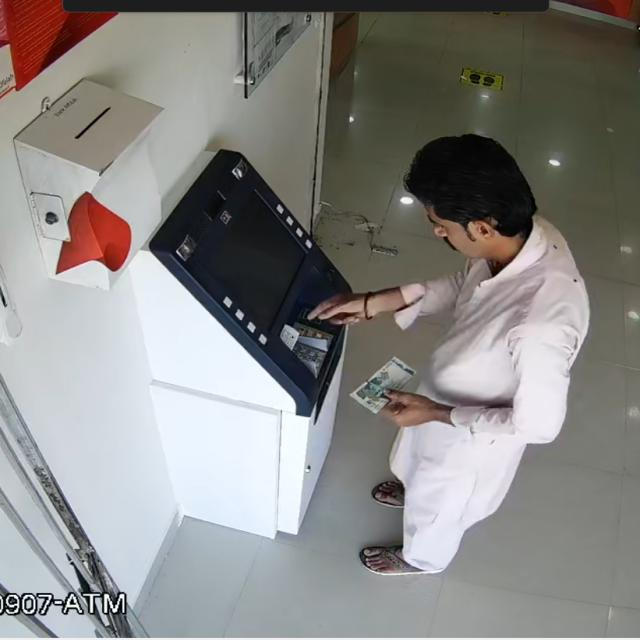note: (340, 346, 428, 422)
